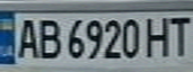0: (121, 16, 145, 60)
2: (103, 16, 124, 61)
6: (63, 16, 87, 60)
9: (81, 16, 106, 61)
A: (12, 16, 42, 60)
B: (33, 16, 63, 60)
H: (142, 14, 175, 58)
T: (166, 12, 193, 57)
